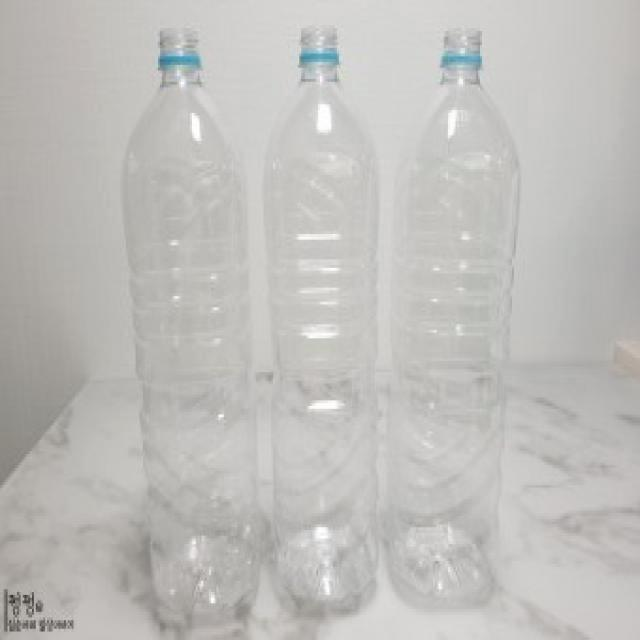bottle: (121, 28, 264, 629), (390, 29, 507, 604), (271, 26, 379, 607)
